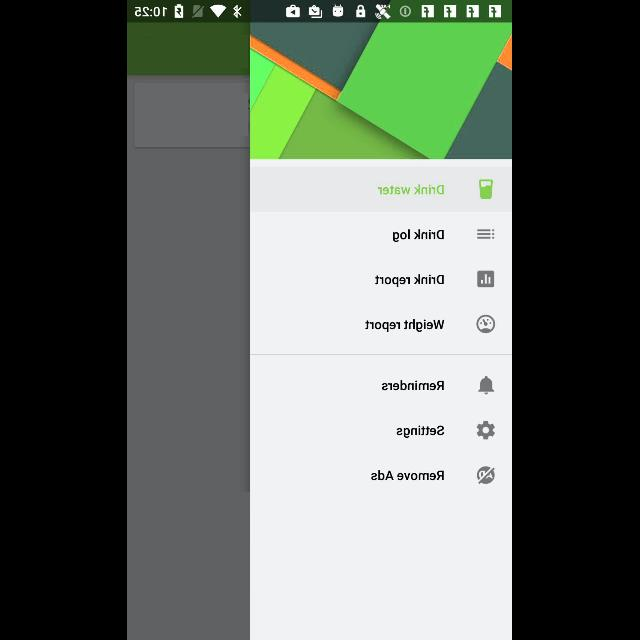icon: (477, 420, 495, 440), (478, 376, 496, 394), (478, 270, 496, 288), (477, 229, 495, 239)
image: (476, 314, 496, 334), (478, 466, 497, 484), (480, 179, 494, 199)
panel: (252, 24, 512, 640)
text: (365, 320, 445, 332), (376, 274, 444, 288), (379, 184, 445, 196), (371, 470, 445, 480), (382, 380, 446, 390), (394, 230, 444, 242), (397, 426, 445, 438)
uppertaskbar: (128, 1, 512, 23)
